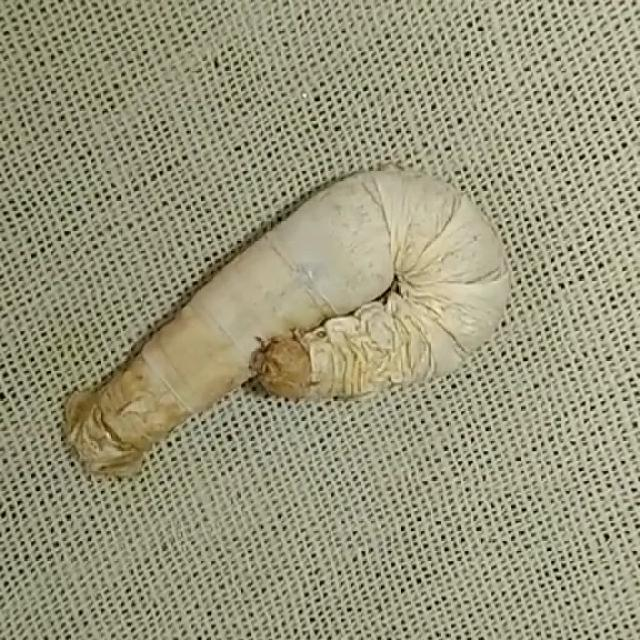Grasserie: (57, 153, 512, 487)
